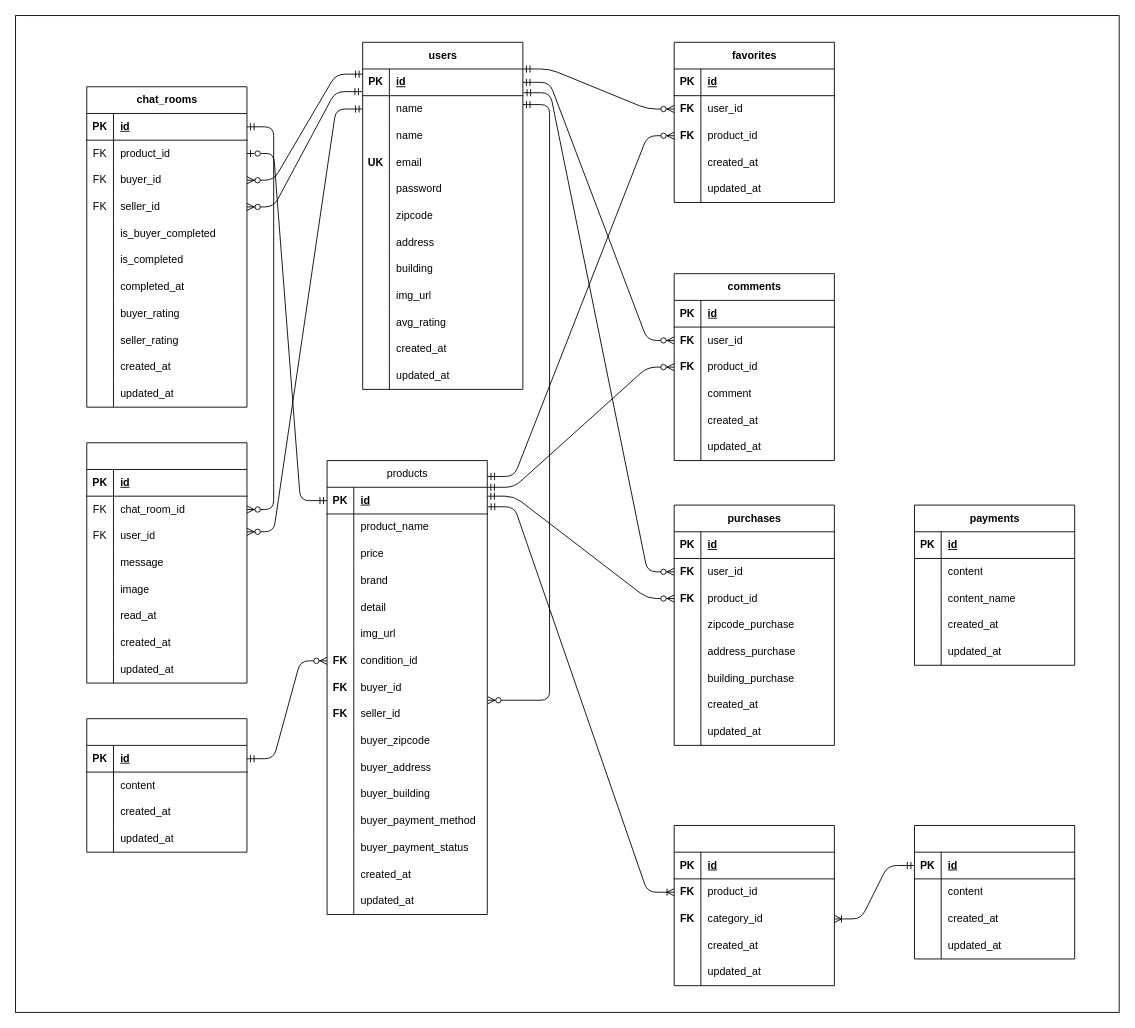
Image size: 1135x1028. Some labels were removed from this diagram. Each missing label, with the box of its shape:
categories: (914, 825, 1075, 959)
categories_products: (673, 825, 834, 986)
conditions: (86, 718, 247, 852)
messages: (86, 442, 247, 683)
